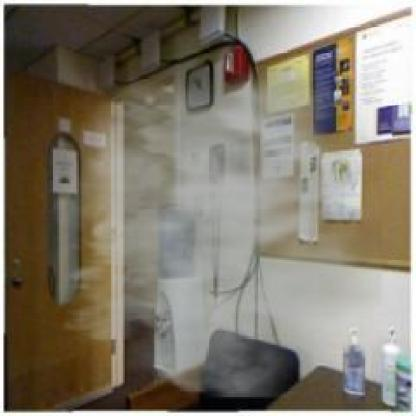Smoke: (28, 51, 383, 398)
